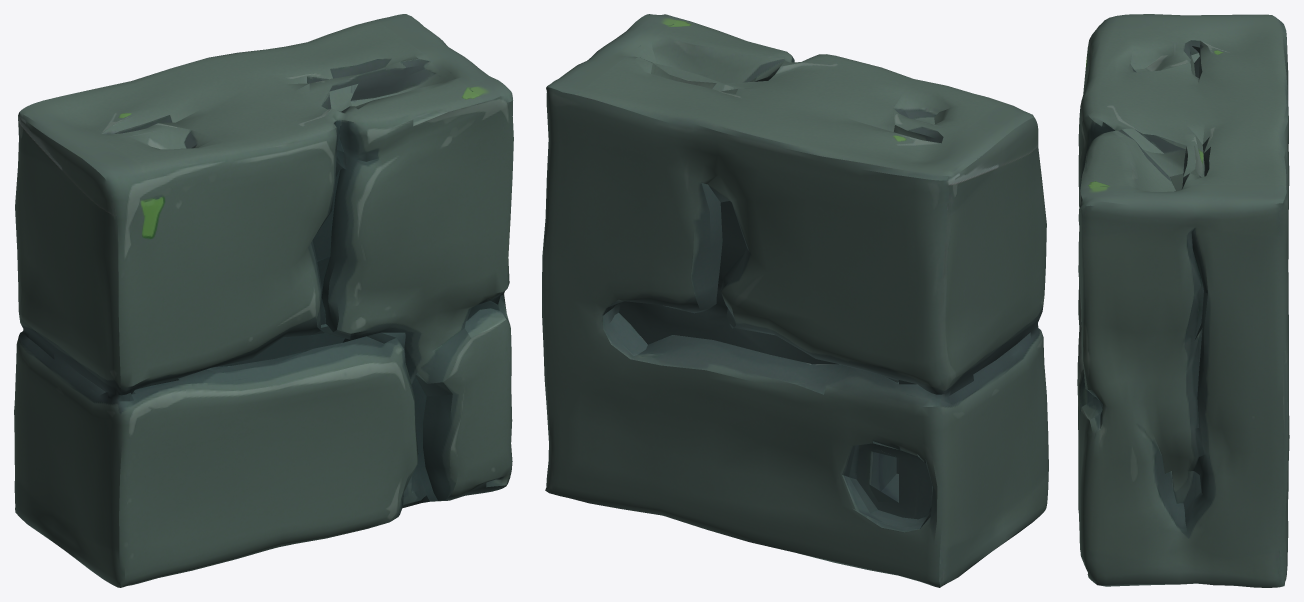
The model's file is brick_std_dungeon_b.glb.
3 renders of one model, left to right at view 1: azimuth 30°, elevation 25°; view 2: azimuth 150°, elevation 25°; view 3: azimuth 270°, elevation 25°, orthographic. The views are drawn at different scales.
Parts seen in each view (by area): view 1: Mesh_0; view 2: Mesh_0; view 3: Mesh_0.
Part boxes in pixels (bbox=[...]): Mesh_0: bbox=[14, 14, 513, 587]; Mesh_0: bbox=[542, 14, 1048, 587]; Mesh_0: bbox=[1077, 14, 1289, 587].
Size of the model in its own units: 1.9 by 1.84 by 0.904.
Materials: 1 (1 with a texture image).
